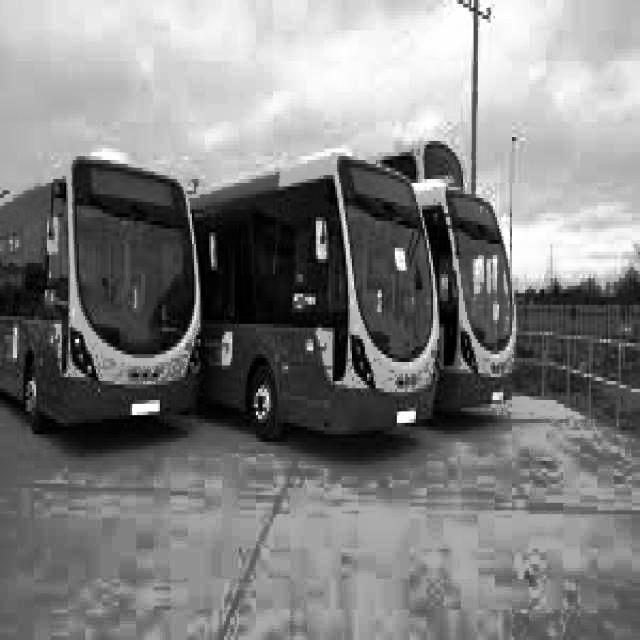Bus: (199, 137, 447, 465), (0, 132, 210, 466), (420, 177, 543, 428)
